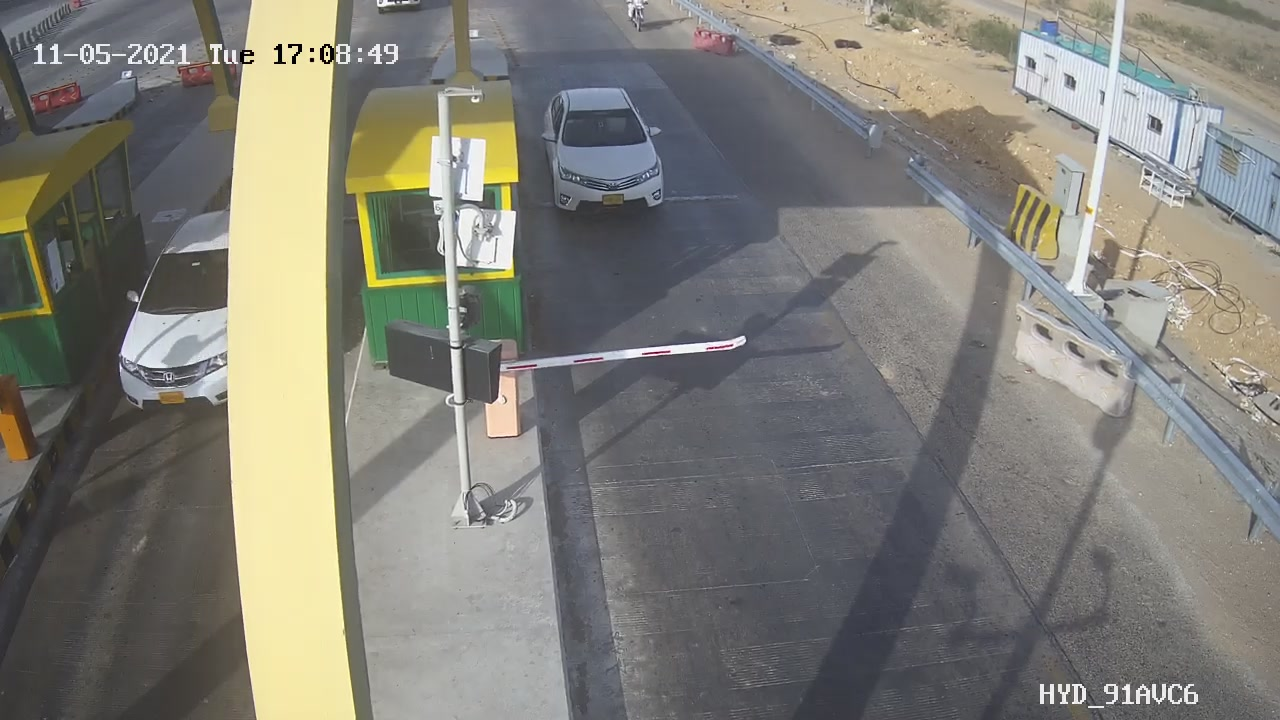F1: (524, 72, 690, 231)
